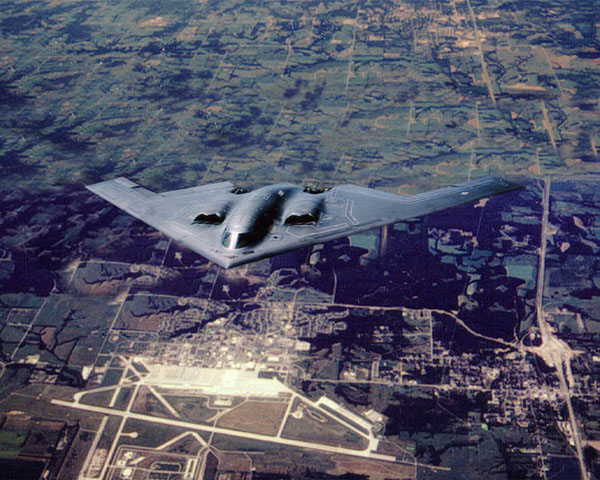B2: (85, 174, 526, 270)
